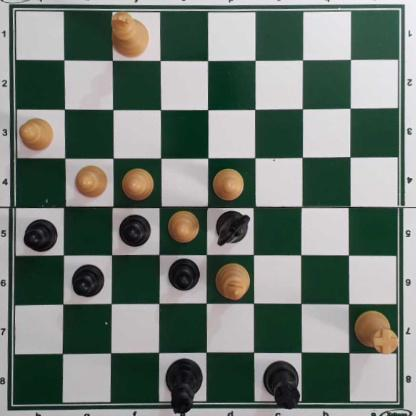black-king: (165, 357, 203, 415)
black-knight: (215, 211, 250, 249)
black-pawn: (24, 219, 59, 253), (168, 259, 202, 293), (72, 265, 105, 300), (119, 215, 151, 250)
black-rook: (262, 365, 303, 408)
white-bishop: (215, 262, 252, 303)
white-king: (112, 12, 150, 60)
white-pawn: (75, 165, 109, 201), (19, 119, 55, 152), (167, 212, 203, 245), (122, 168, 155, 202), (213, 169, 245, 201)
white-rook: (355, 313, 400, 353)
